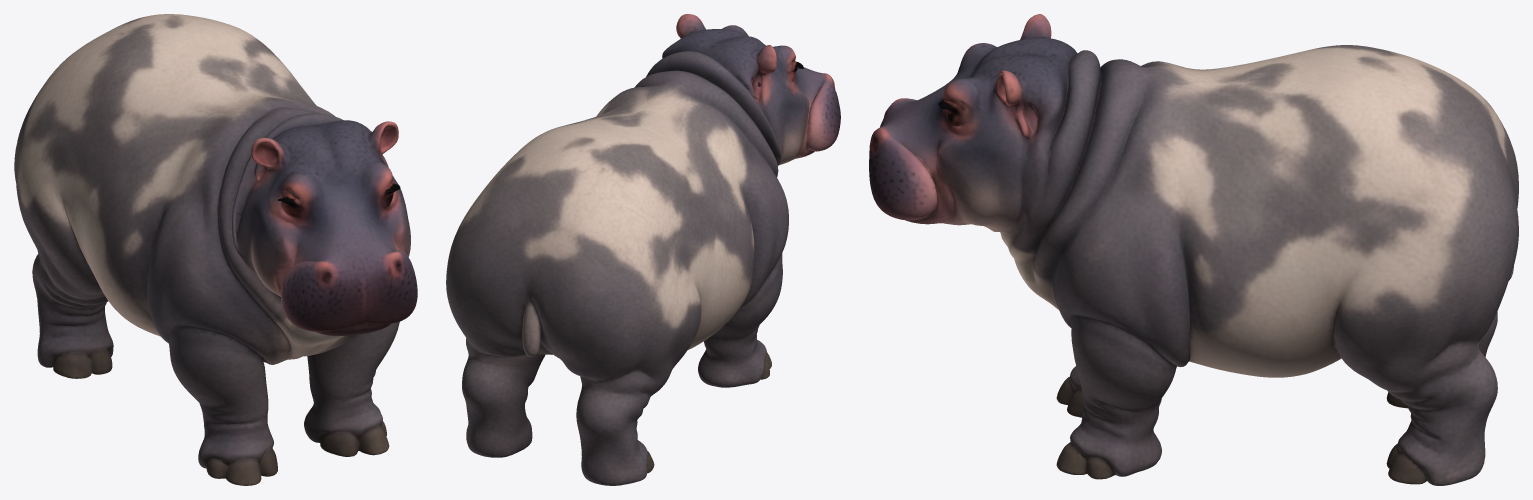
The model's file is generation_tapir_1.glb.
The picture shows the model from 3 angles, left to right: view 1: azimuth 30°, elevation 25°; view 2: azimuth 150°, elevation 25°; view 3: azimuth 270°, elevation 25°; orthographic projection. The views are drawn at different scales.
Visible parts, largest first — view 1: geometry_0; view 2: geometry_0; view 3: geometry_0.
Part boxes in pixels (x1,y1,x2,y2): geometry_0: [14, 14, 417, 485]; geometry_0: [446, 14, 840, 485]; geometry_0: [869, 14, 1518, 485].
Bounding box in the file's own units: 0.508 × 0.6584 × 1.
1 material, 1 textured.
